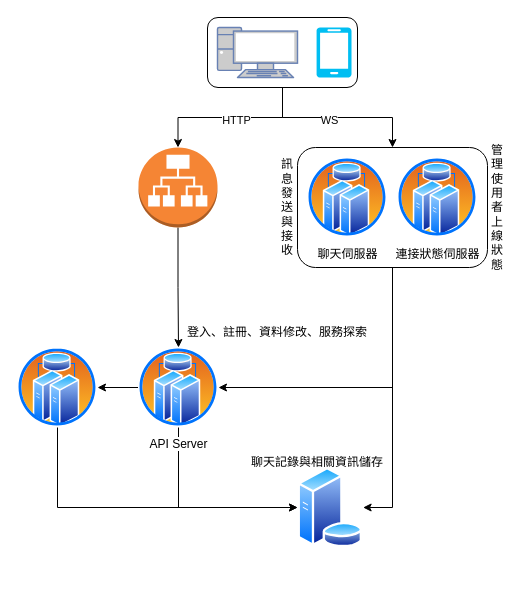
Some shapes in this 524 by 589 pixel diagram are drawn without their labels. Here are the shapes that lost their labels. From the top down, the box of each, then its label:
(17, 347, 97, 427): 通知伺服器
(297, 467, 363, 547): 鍵值儲存系統
